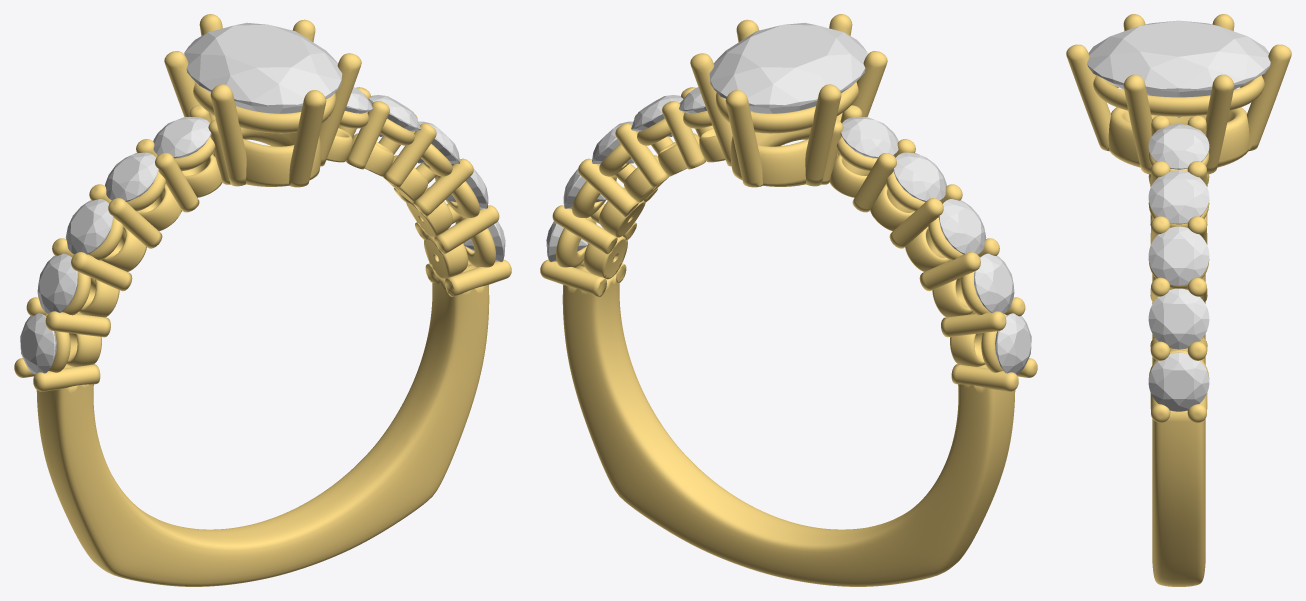
Rendered from diamond-oval-yellowgold-6prong-europeanshank-11stone.glb.
3 renders of one model, left to right at view 1: azimuth 30°, elevation 25°; view 2: azimuth 150°, elevation 25°; view 3: azimuth 270°, elevation 25°, orthographic. The views are drawn at different scales.
Visible parts, largest first — view 1: metal, stone.001, side.012, side.013, side.011, side.014, side.010, side.018; view 2: metal, stone.001, side.012, side.013, side.011, side.014, side.010, side.018; view 3: metal, stone.001, side.016, side.015, side.017, side.018, side.019.
Boxes of the visible parts, x1,y1,x2,y2 form: metal: (14, 14, 511, 586); stone.001: (184, 22, 342, 113); side.012: (65, 199, 113, 254); side.013: (105, 152, 158, 201); side.011: (37, 253, 77, 313); side.014: (153, 117, 211, 158); side.010: (20, 313, 56, 374); side.018: (368, 95, 420, 136); metal: (540, 14, 1037, 586); stone.001: (709, 22, 867, 113); side.012: (938, 199, 986, 254); side.013: (893, 152, 946, 201); side.011: (974, 253, 1014, 313); side.014: (840, 117, 898, 158); side.010: (995, 313, 1031, 374); side.018: (631, 95, 683, 136); metal: (1066, 14, 1291, 586); stone.001: (1087, 20, 1270, 117); side.016: (1148, 288, 1209, 349); side.015: (1148, 352, 1209, 411); side.017: (1148, 226, 1209, 285); side.018: (1148, 170, 1209, 224); side.019: (1148, 124, 1209, 169).
Bounding box in the file's own units: 21.96 × 23.2 × 9.29.
